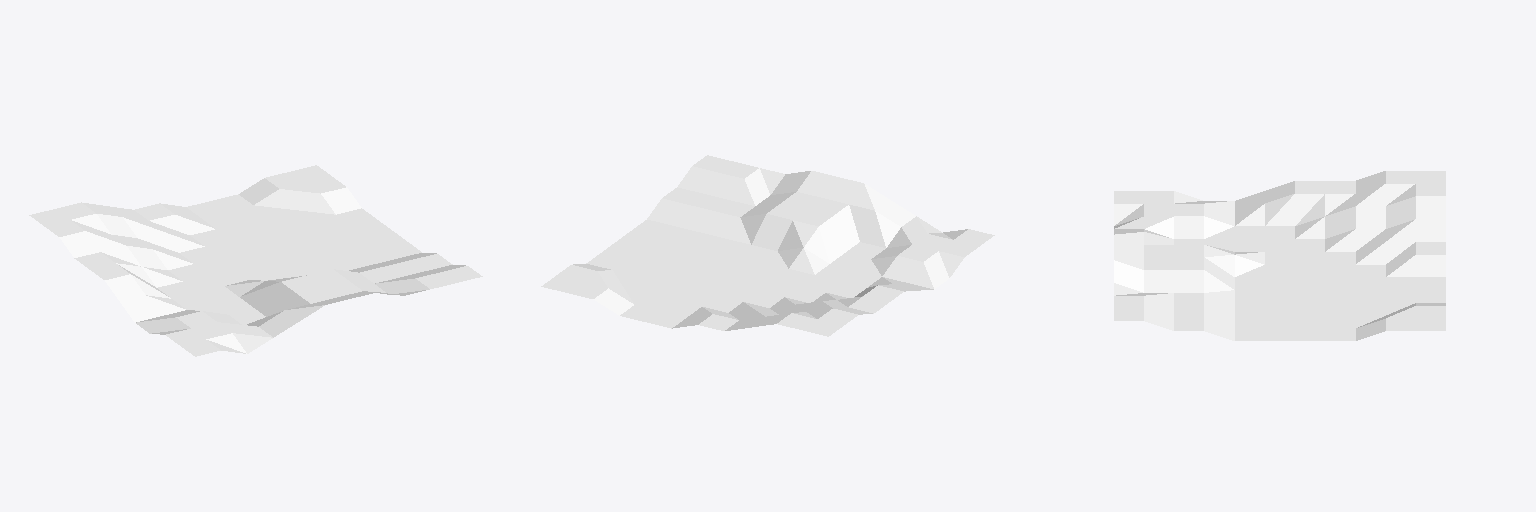
The picture shows the model from 3 angles: view 1: azimuth 30°, elevation 25°; view 2: azimuth 150°, elevation 25°; view 3: azimuth 270°, elevation 25°; orthographic projection.
Parts seen in each view (by area): view 1: pb-Plane[Detail]-998114; view 2: pb-Plane[Detail]-998114; view 3: pb-Plane[Detail]-998114.
Part boxes in pixels (bbox=[...]): pb-Plane[Detail]-998114: bbox=[29, 165, 482, 356]; pb-Plane[Detail]-998114: bbox=[541, 155, 994, 336]; pb-Plane[Detail]-998114: bbox=[1114, 171, 1445, 340].
Size of the model in its own units: 30 by 3 by 30.